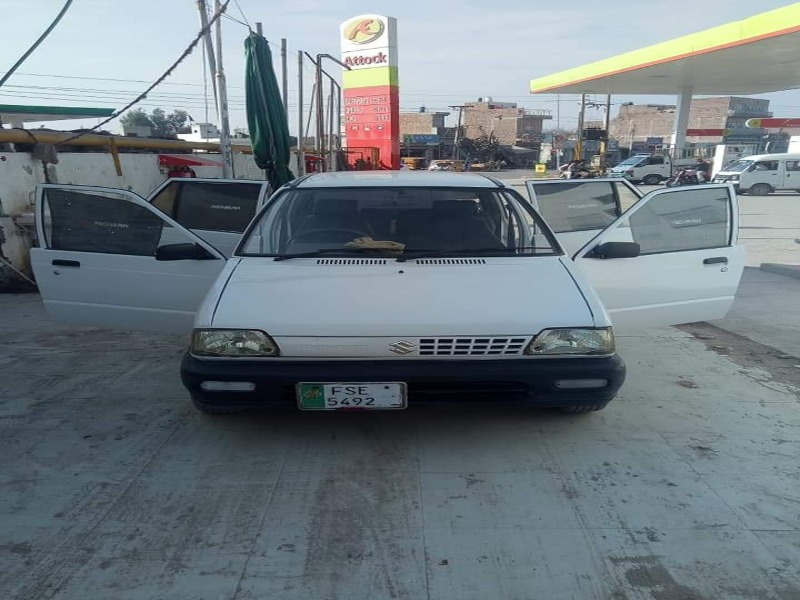License Plate: (296, 380, 408, 411)
